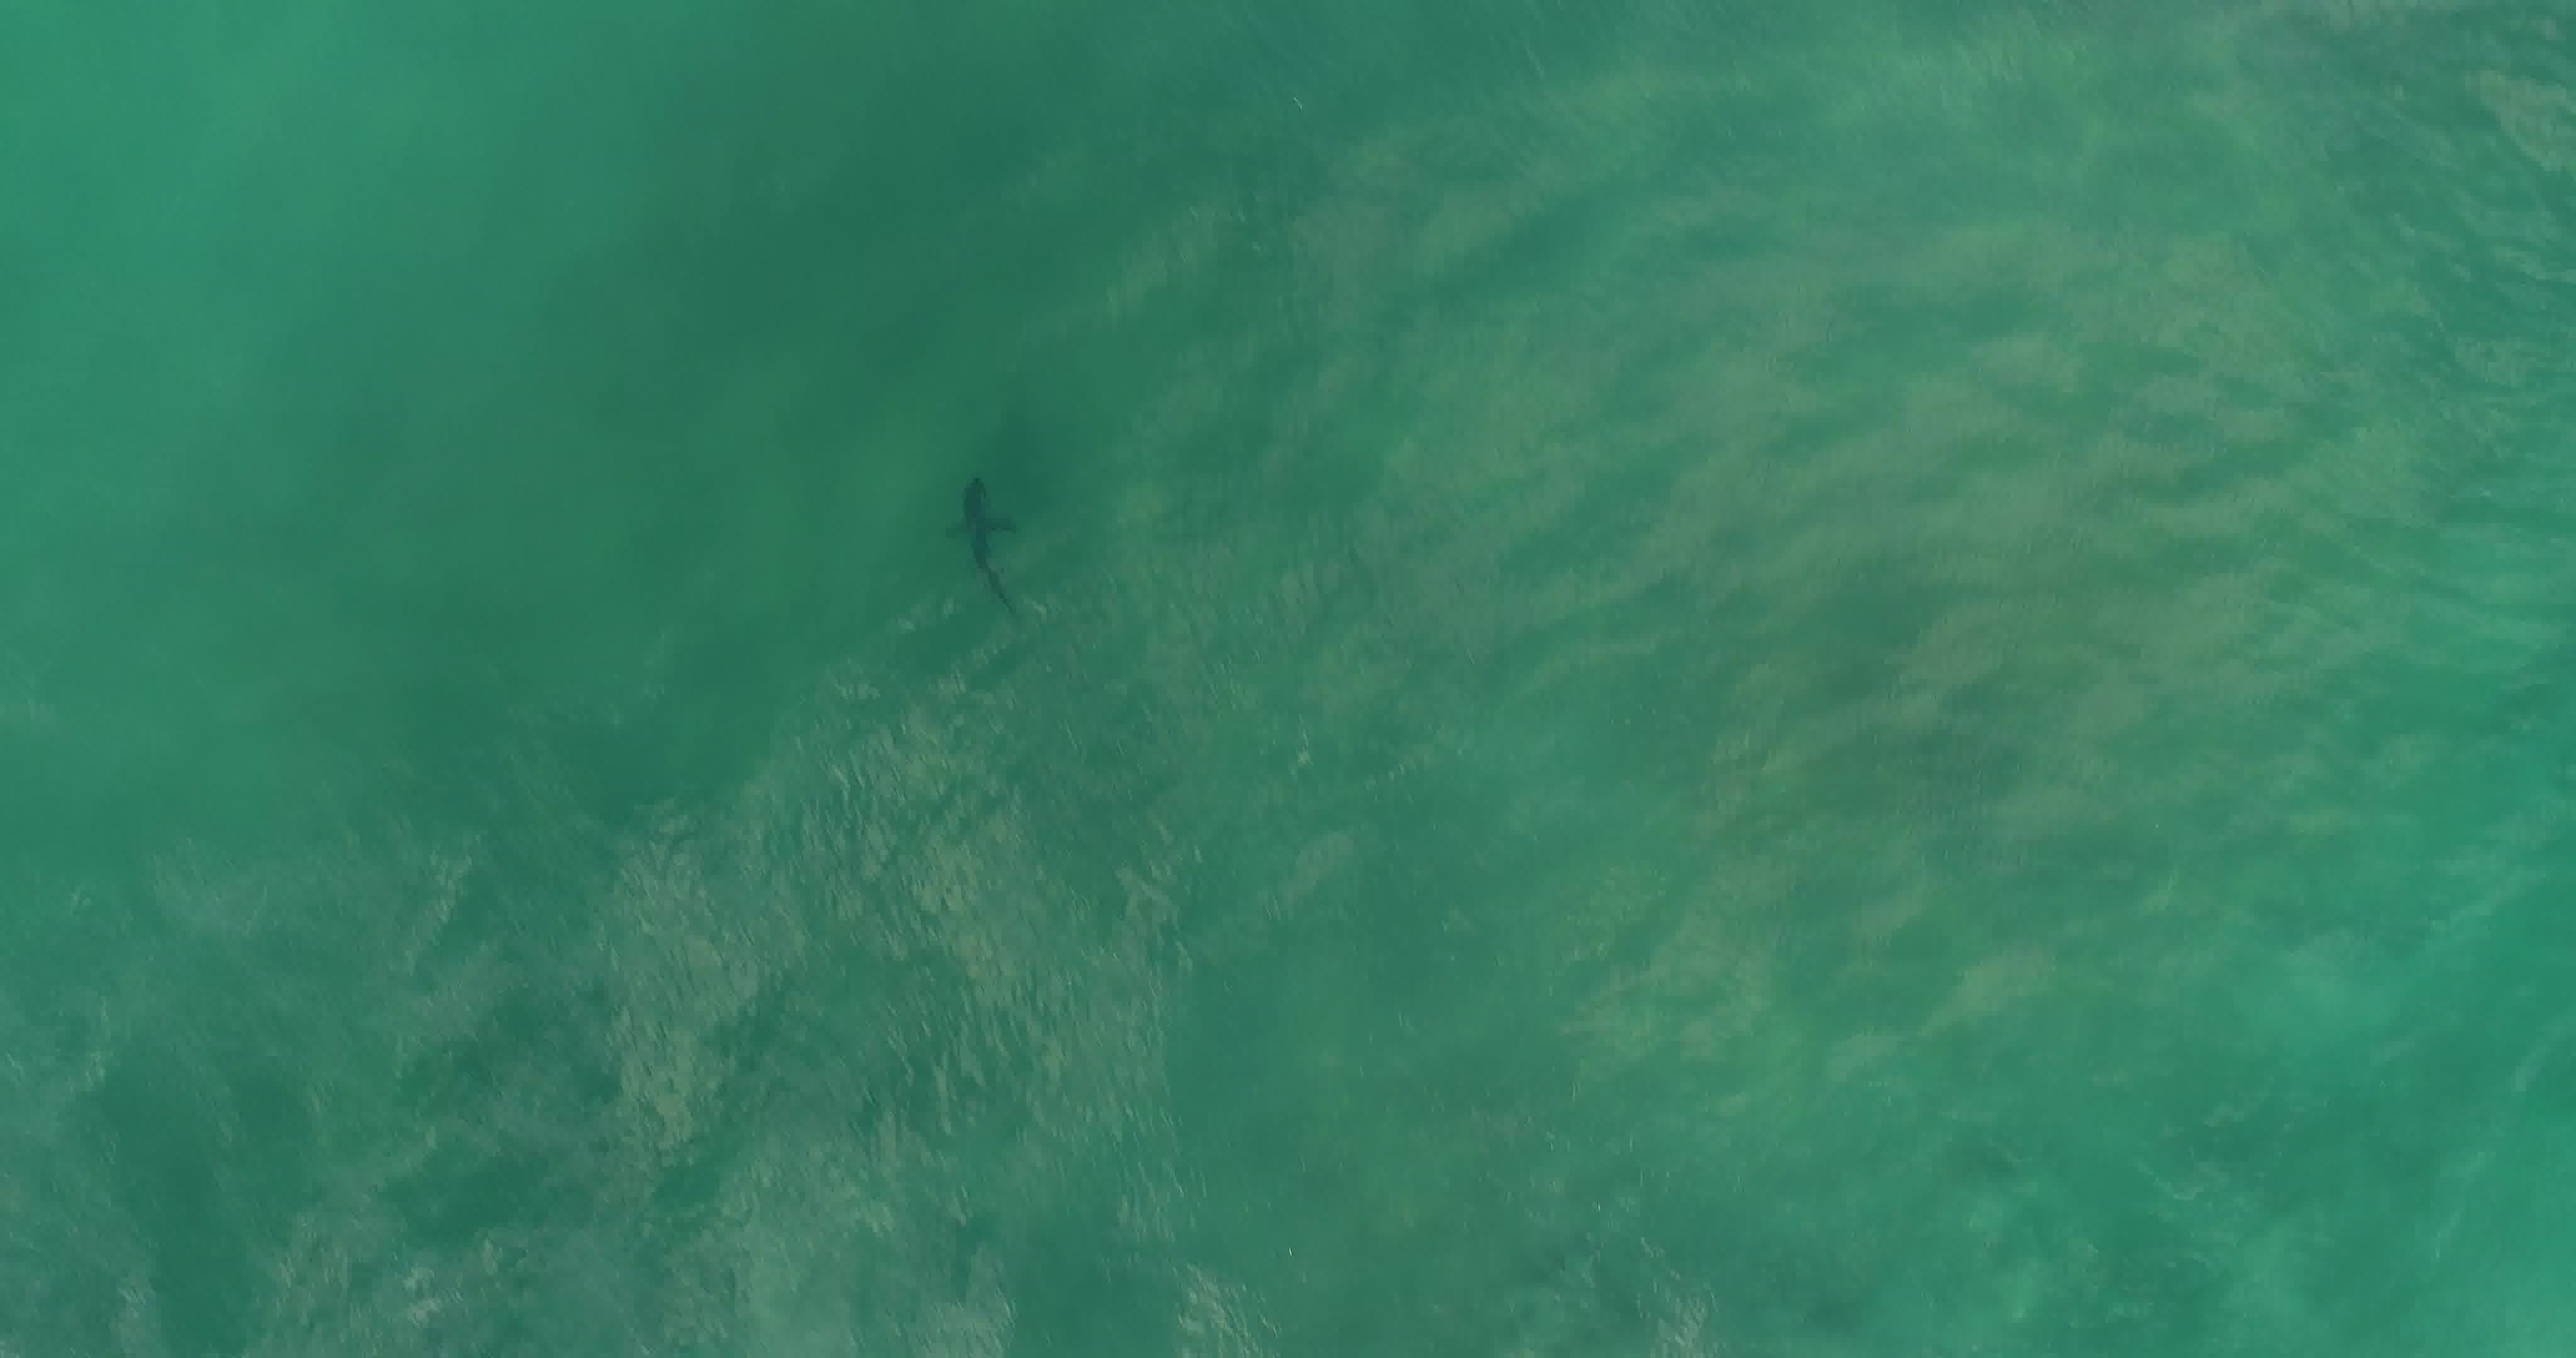shark: (939, 474, 1026, 624)
